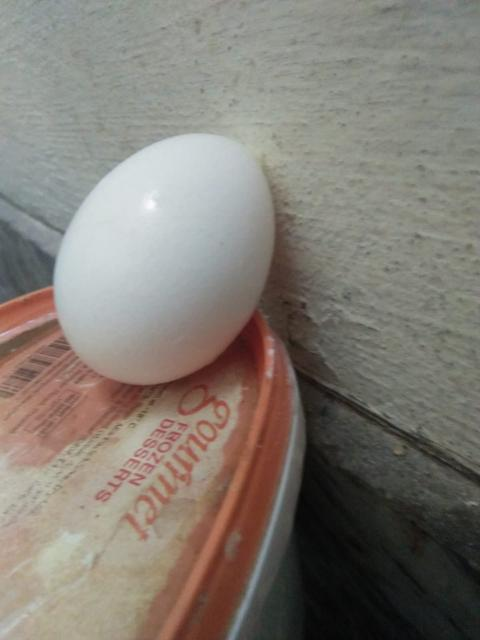Sano: (52, 131, 277, 386)
